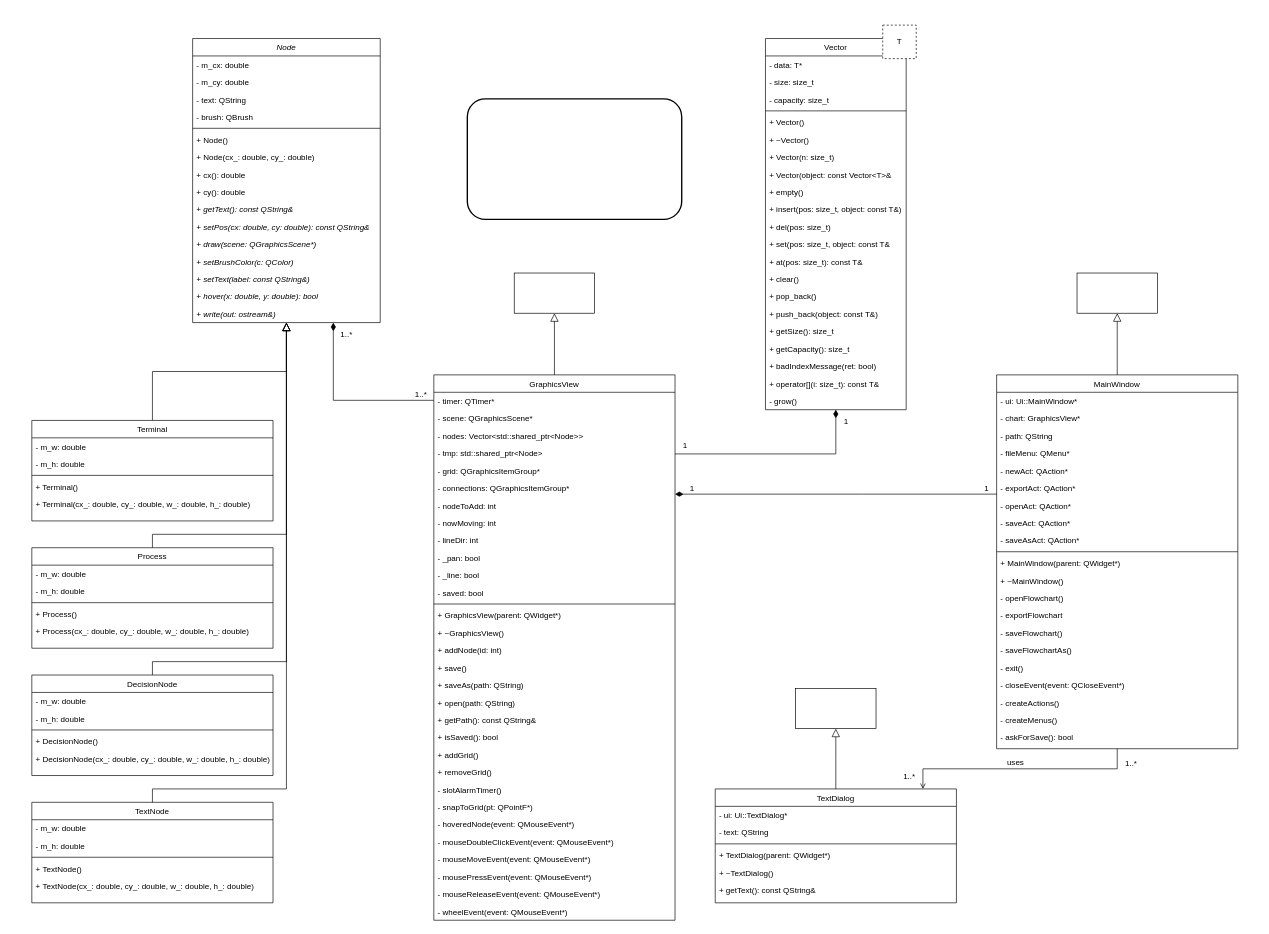
Image size: 1269x934. Some labels were removed from this diagram. Each missing label, with the centre of its shape:
"Flowchart Editor" belongs at (574,159).
"QDialog" belongs at (835,708).
"QGraphicsView" belongs at (554,292).
"QMainWindow" belongs at (1116,292).
